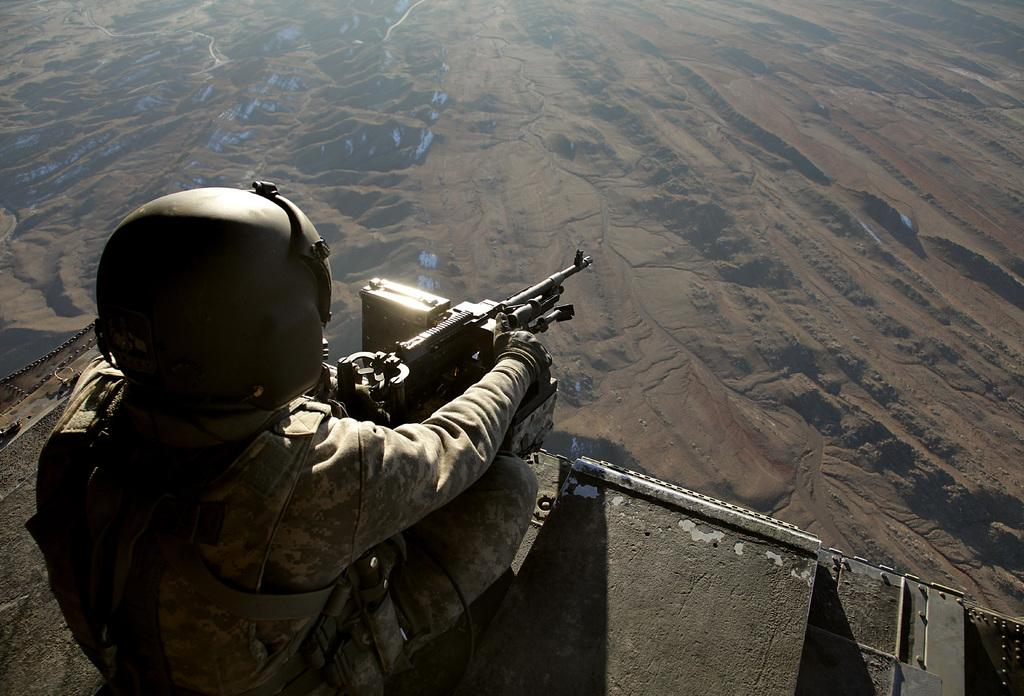Rifle: (306, 271, 605, 512)
